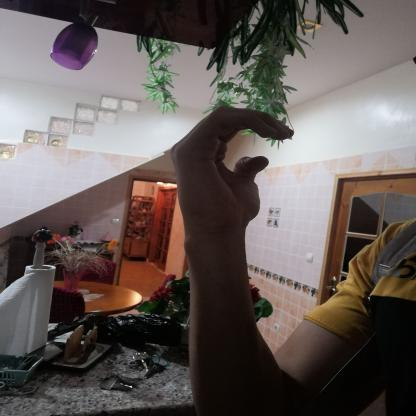JEEM: (156, 94, 302, 242)
